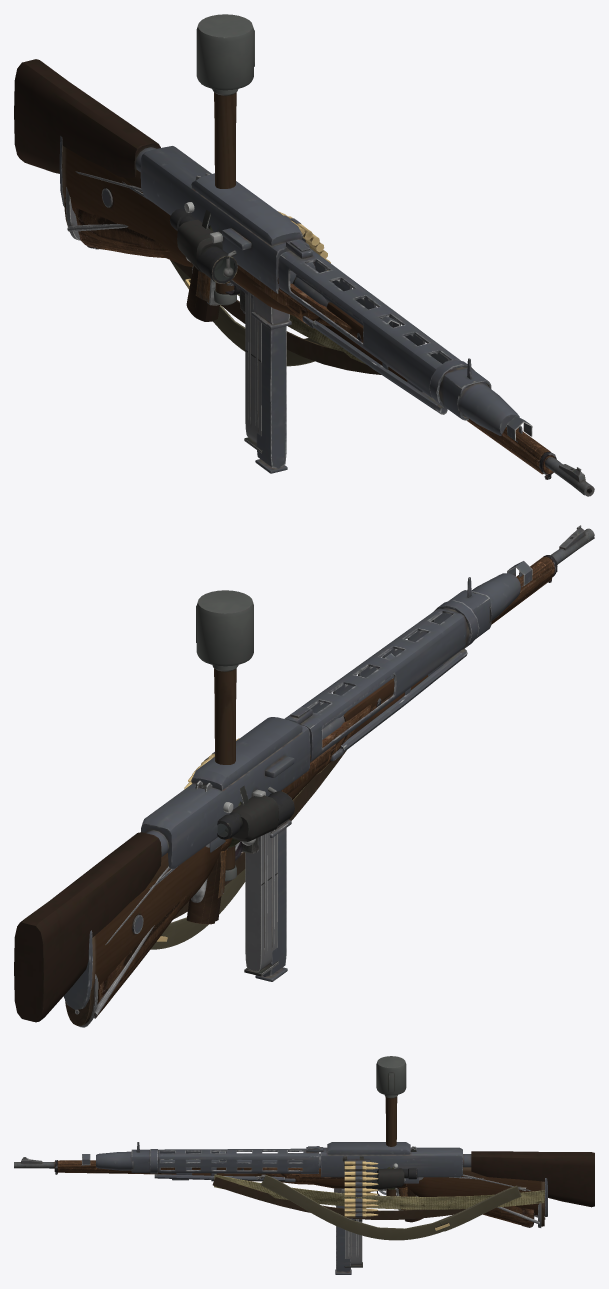
Rendered from weapons.glb.
3 views of the same model, one above another, from view 1: azimuth 30°, elevation 25°; view 2: azimuth 150°, elevation 25°; view 3: azimuth 270°, elevation 25° (orthographic). The views are drawn at different scales.
Visible parts, largest first — view 1: mg_body, enemyRifle_body, stickGrenade_body, rifleScoped_body, enemySmg_mag_mesh, mg_cover_mesh, binoculars_body, rifleScopedLod_body, smg_mag_mesh, mg_bipod_mesh, enemyRifle_sling_mesh, smg_body (+3 smaller); view 2: mg_body, enemyRifle_body, stickGrenade_body, smg_mag_mesh, rifleScoped_body, mg_cover_mesh, smg_body, binoculars_body, mg_bipod_mesh, rifleScopedLod_body, enemySmg_mag_mesh, smg_sling_mesh (+2 smaller); view 3: mg_body, enemyRifle_body, smg_sling_mesh, rifleScoped_sling_mesh, rifleScoped_body, enemyRifle_sling_mesh, stickGrenade_body, mg_belt_mesh, mg_cover_mesh, rifleScopedLod_body, binoculars_body, mg_bipod_mesh (+4 smaller).
Part boxes in pixels (x1,y1,x2,y2): mg_body: (14, 59, 519, 435); enemyRifle_body: (59, 136, 532, 442); stickGrenade_body: (196, 14, 254, 305); rifleScoped_body: (78, 214, 594, 495); enemySmg_mag_mesh: (255, 323, 287, 473); mg_cover_mesh: (191, 173, 302, 245); binoculars_body: (169, 208, 237, 283); rifleScopedLod_body: (75, 207, 594, 496); smg_mag_mesh: (244, 289, 261, 453); mg_bipod_mesh: (302, 316, 474, 414); enemyRifle_sling_mesh: (173, 261, 381, 374); smg_body: (64, 171, 346, 331); mg_body: (14, 573, 520, 1022); enemyRifle_body: (63, 561, 532, 1009); stickGrenade_body: (196, 590, 253, 881); smg_mag_mesh: (245, 828, 278, 975); rifleScoped_body: (94, 525, 594, 1018); mg_cover_mesh: (191, 717, 302, 790); smg_body: (65, 715, 343, 1027); binoculars_body: (217, 791, 294, 841); mg_bipod_mesh: (330, 600, 479, 761); rifleScopedLod_body: (95, 527, 594, 1018); enemySmg_mag_mesh: (255, 828, 287, 981); smg_sling_mesh: (150, 869, 245, 949); mg_body: (96, 1142, 594, 1221); enemyRifle_body: (81, 1154, 547, 1216); smg_sling_mesh: (261, 1175, 520, 1240); rifleScoped_sling_mesh: (214, 1174, 544, 1209); rifleScoped_body: (14, 1156, 534, 1227); enemyRifle_sling_mesh: (212, 1177, 465, 1219); stickGrenade_body: (376, 1056, 406, 1196); mg_belt_mesh: (344, 1161, 378, 1217); mg_cover_mesh: (327, 1142, 410, 1154); rifleScopedLod_body: (14, 1157, 534, 1227); binoculars_body: (362, 1168, 417, 1189); mg_bipod_mesh: (150, 1149, 295, 1181).
Bounding box in the file's own units: 0.153 × 0.548 × 1.36.
Materials: 9 (7 with a texture image).
